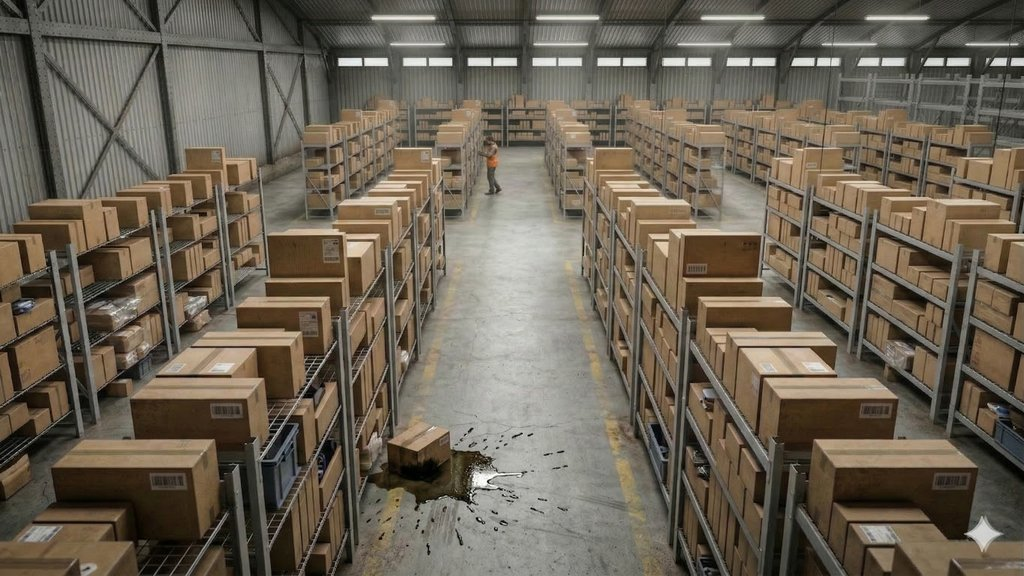empty_shelf: (835, 64, 1023, 110), (127, 526, 207, 576), (255, 355, 300, 423), (972, 114, 1020, 143)
person: (474, 129, 521, 199)
safety_vest: (484, 144, 500, 171)
spill: (374, 411, 560, 531)
